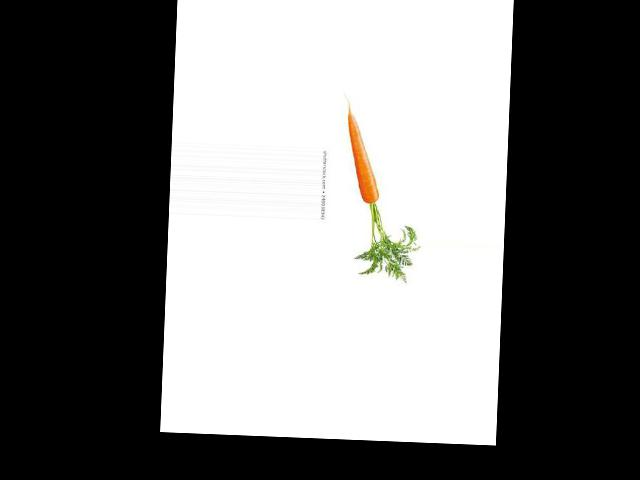carrot: (337, 107, 383, 207)
